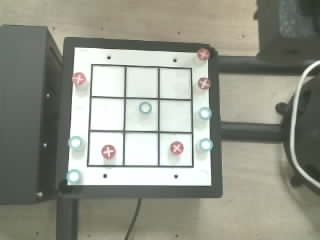blue circle: (66, 169, 80, 183), (68, 136, 82, 149), (199, 138, 212, 151), (199, 107, 211, 119), (139, 102, 151, 113)
board: (67, 48, 213, 185)
cells: (89, 132, 122, 164), (125, 133, 157, 165), (90, 98, 123, 129), (160, 134, 191, 165), (160, 100, 191, 131), (126, 99, 157, 130), (92, 66, 124, 96), (160, 68, 191, 98), (126, 67, 157, 97)
grid: (87, 64, 193, 167)
red cross: (101, 145, 115, 158), (170, 141, 183, 154), (72, 72, 85, 85), (197, 48, 209, 60), (198, 78, 211, 88)
